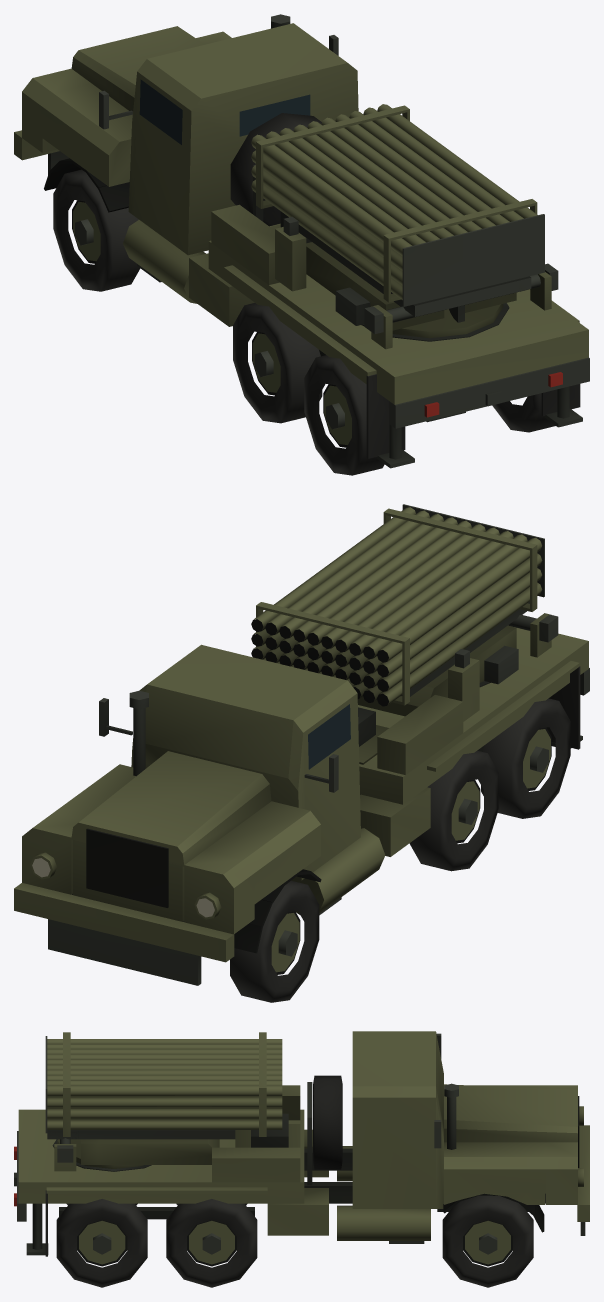
The picture shows the model from 3 angles, top to bottom: view 1: azimuth 30°, elevation 25°; view 2: azimuth 150°, elevation 25°; view 3: azimuth 270°, elevation 25°; orthographic projection. The views are drawn at different scales.
Parts seen in each view (by area): view 1: Hull_BM21_Paint, GunPitch_BM21_Paint, LeftTrack_Motion_BM21_Rubber, GunPitch_BM21_DarkSteel, Hull_BM21_DarkSteel, TurretYaw_BM21_Paint, Hull_BM21_Rubber, Hull_BM21_Optics, LeftTrack_Motion_BM21_Paint, TurretYaw_BM21_DarkSteel, Hull_BM21_Cavity, RightTrack_Motion_BM21_Rubber (+1 smaller); view 2: Hull_BM21_Paint, GunPitch_BM21_Paint, LeftTrack_Motion_BM21_Rubber, Hull_BM21_DarkSteel, Hull_BM21_Cavity, TurretYaw_BM21_Paint, GunPitch_BM21_Cavity, LeftTrack_Motion_BM21_Paint, GunPitch_BM21_DarkSteel, TurretYaw_BM21_DarkSteel, Hull_BM21_Optics, Hull_BM21_Rubber (+1 smaller); view 3: Hull_BM21_Paint, GunPitch_BM21_Paint, RightTrack_Motion_BM21_Rubber, Hull_BM21_DarkSteel, TurretYaw_BM21_Paint, RightTrack_Motion_BM21_Paint, Hull_BM21_Rubber, GunPitch_BM21_DarkSteel, RightTrack_Motion_BM21_DarkSteel, RightTrack_Motion_BM21_Cavity, Hull_BM21_Cavity.
Part boxes in pixels (box(x1,y1,x2,y2)): Hull_BM21_Paint: box(14, 23, 588, 404); GunPitch_BM21_Paint: box(251, 104, 537, 302); LeftTrack_Motion_BM21_Rubber: box(53, 169, 384, 475); GunPitch_BM21_DarkSteel: box(298, 214, 544, 322); Hull_BM21_DarkSteel: box(48, 14, 589, 468); TurretYaw_BM21_Paint: box(275, 227, 551, 349); Hull_BM21_Rubber: box(230, 113, 580, 458); Hull_BM21_Optics: box(139, 79, 310, 144); LeftTrack_Motion_BM21_Paint: box(73, 202, 351, 444); TurretYaw_BM21_DarkSteel: box(283, 216, 558, 334); Hull_BM21_Cavity: box(44, 158, 129, 212); RightTrack_Motion_BM21_Rubber: box(492, 393, 555, 432); Hull_BM21_Paint: box(14, 625, 588, 962); GunPitch_BM21_Paint: box(253, 507, 542, 705); LeftTrack_Motion_BM21_Rubber: box(230, 698, 570, 1002); Hull_BM21_DarkSteel: box(48, 668, 589, 985); Hull_BM21_Cavity: box(72, 828, 321, 953); TurretYaw_BM21_Paint: box(357, 613, 551, 721); GunPitch_BM21_Cavity: box(251, 619, 388, 706); LeftTrack_Motion_BM21_Paint: box(271, 729, 550, 972); GunPitch_BM21_DarkSteel: box(401, 504, 544, 696); TurretYaw_BM21_DarkSteel: box(455, 614, 558, 684); Hull_BM21_Optics: box(308, 704, 350, 769); Hull_BM21_Rubber: box(546, 666, 580, 749); Hull_BM21_Paint: box(18, 1031, 589, 1240); GunPitch_BM21_Paint: box(47, 1032, 282, 1136); RightTrack_Motion_BM21_Rubber: box(56, 1195, 533, 1287); Hull_BM21_DarkSteel: box(14, 1033, 585, 1255); TurretYaw_BM21_Paint: box(54, 1139, 219, 1171); RightTrack_Motion_BM21_Paint: box(79, 1220, 510, 1264); Hull_BM21_Rubber: box(45, 1075, 342, 1256); GunPitch_BM21_DarkSteel: box(45, 1036, 235, 1143); RightTrack_Motion_BM21_DarkSteel: box(93, 1233, 497, 1254); RightTrack_Motion_BM21_Cavity: box(77, 1220, 512, 1266); Hull_BM21_Cavity: box(443, 1096, 579, 1232).
Bounding box in the file's own units: 2.66 × 2.68 × 7.35.
